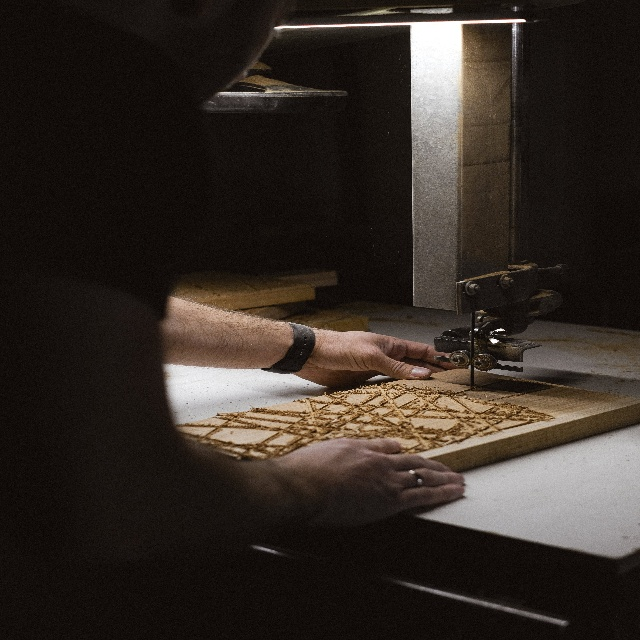Sin_guantes: (272, 433, 467, 537), (299, 327, 471, 392)
